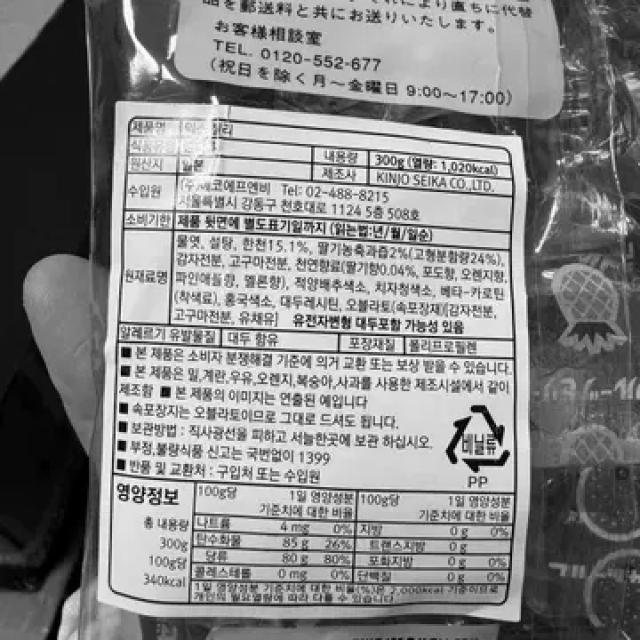Nutrition Label: (100, 465, 510, 624)
